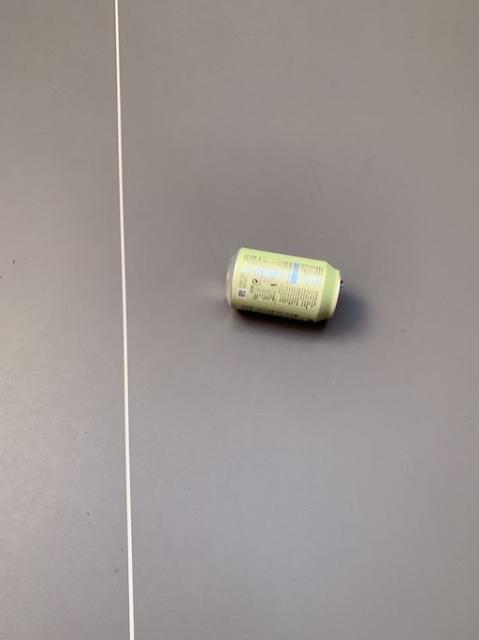metal: (225, 246, 339, 320)
